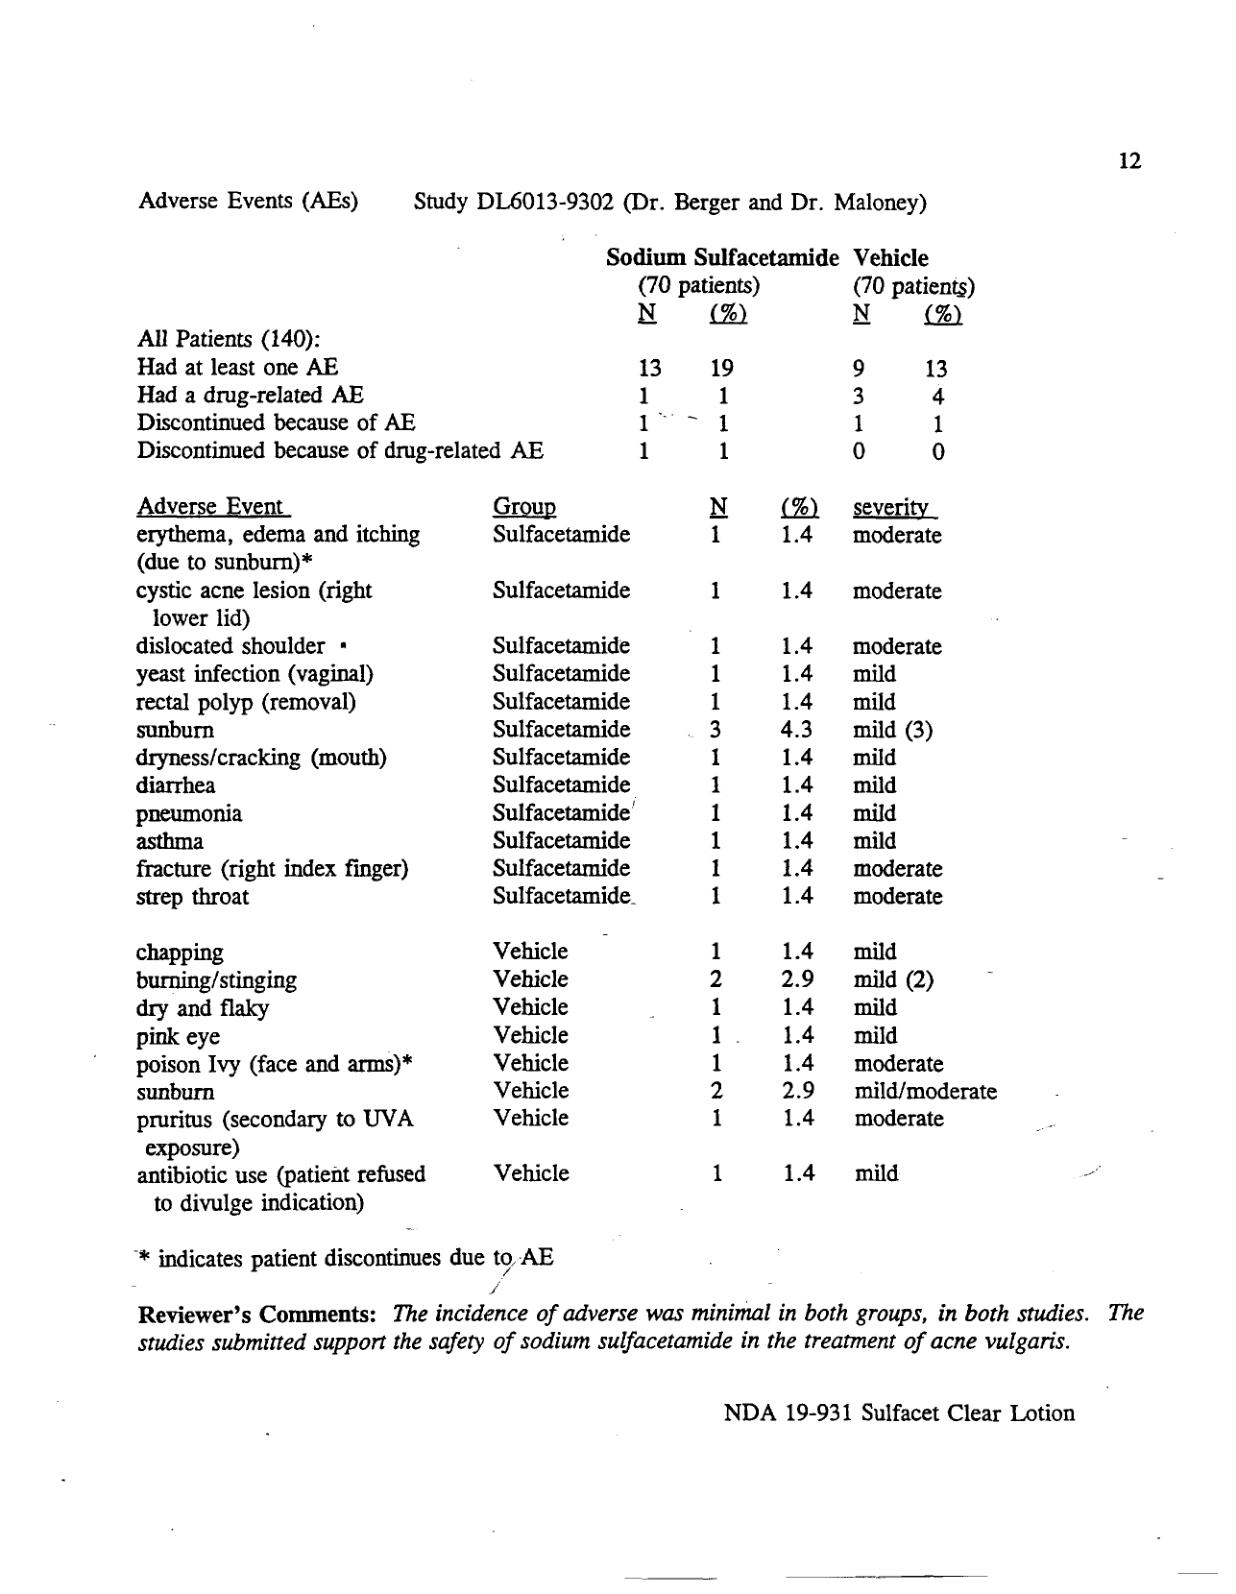nolines: (129, 246, 1000, 1214)
